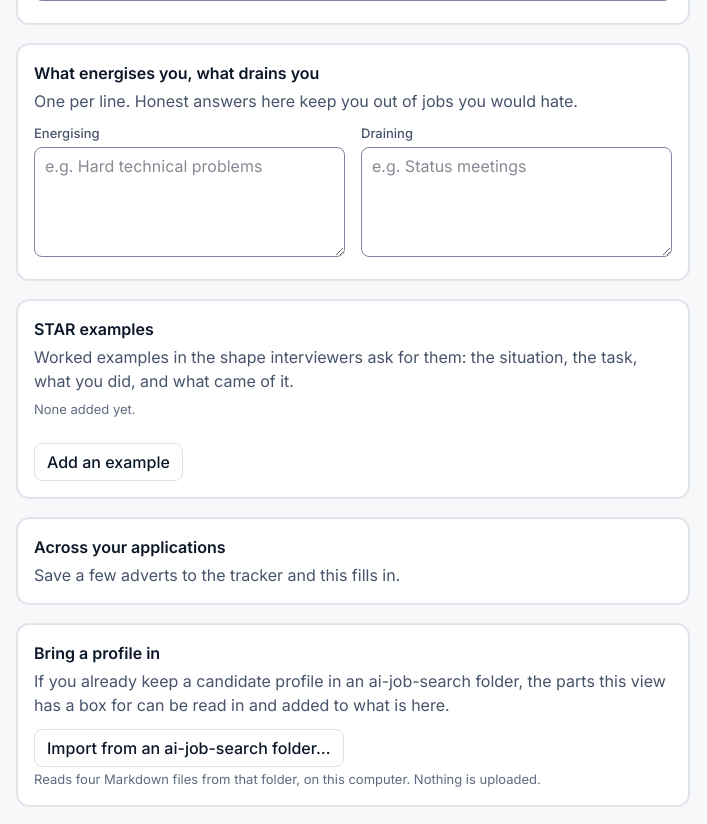
Test: the review › lists what was found, with counts, and the notes
(page scrolled)
Click the button with test id "profile-import-ajs". click: (189, 748)
box: [34,729,344,767]
(page scrolled)
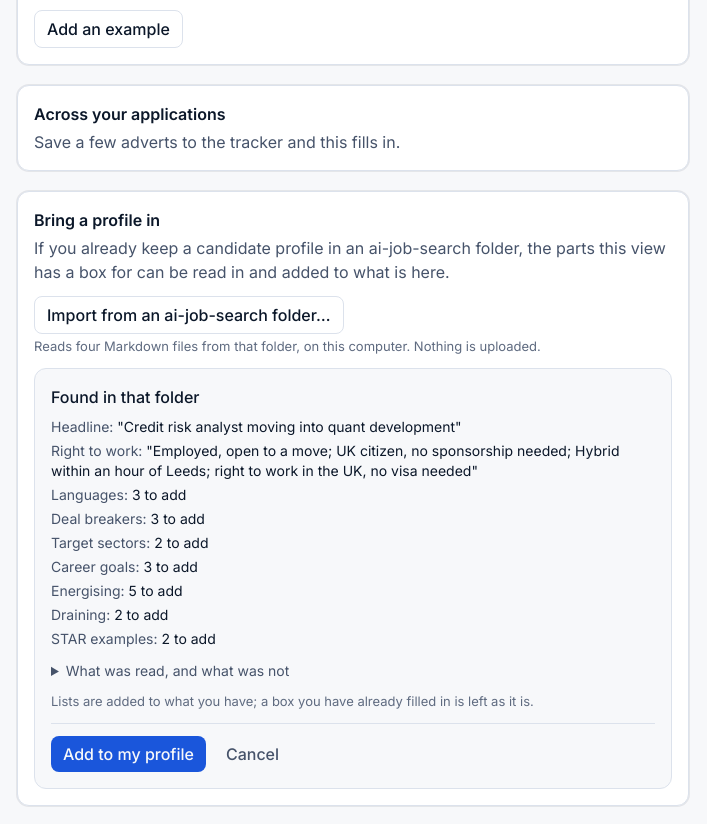
Result: the list item with test id "profile-import-found-headline" shows "Credit risk analyst moving into quant development" at [117,418,462,435]
Result: the list item with test id "profile-import-found-languages" shows "3" at [132,486,186,503]
Result: the list item with test id "profile-import-found-deal_breakers" shows "3" at [150,510,205,527]
